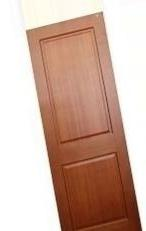door: (21, 6, 138, 231)
